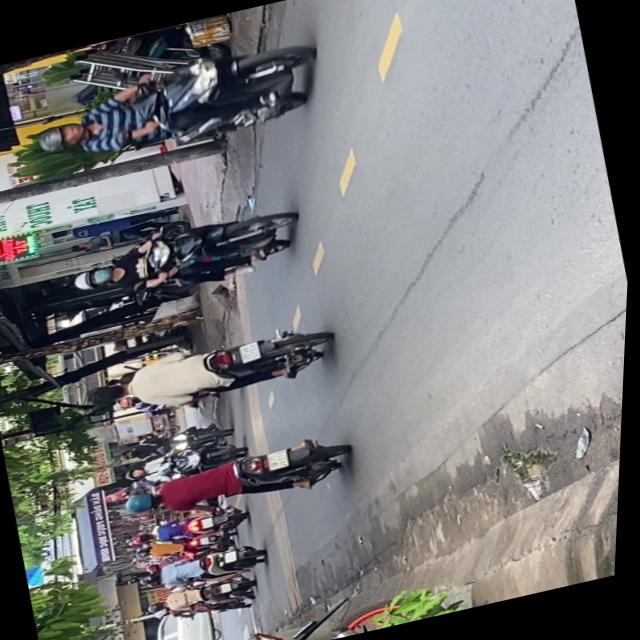helmet: (34, 118, 88, 154), (73, 263, 119, 292), (124, 488, 165, 516)
licenseplate: (23, 30, 330, 181), (82, 316, 342, 428), (65, 198, 308, 314), (119, 428, 359, 530)
motorcyclist: (86, 378, 134, 408)
nohelmet: (268, 448, 293, 471), (238, 340, 263, 362)
